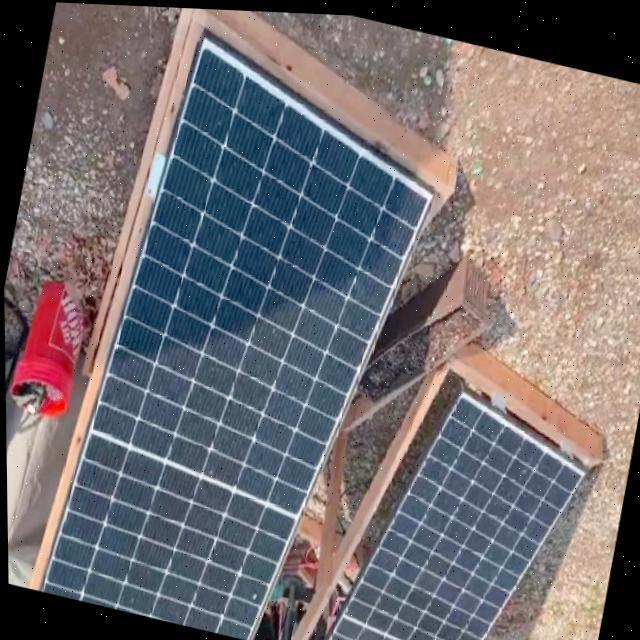Normal Solar Panel: (31, 19, 453, 640), (306, 359, 596, 640)
